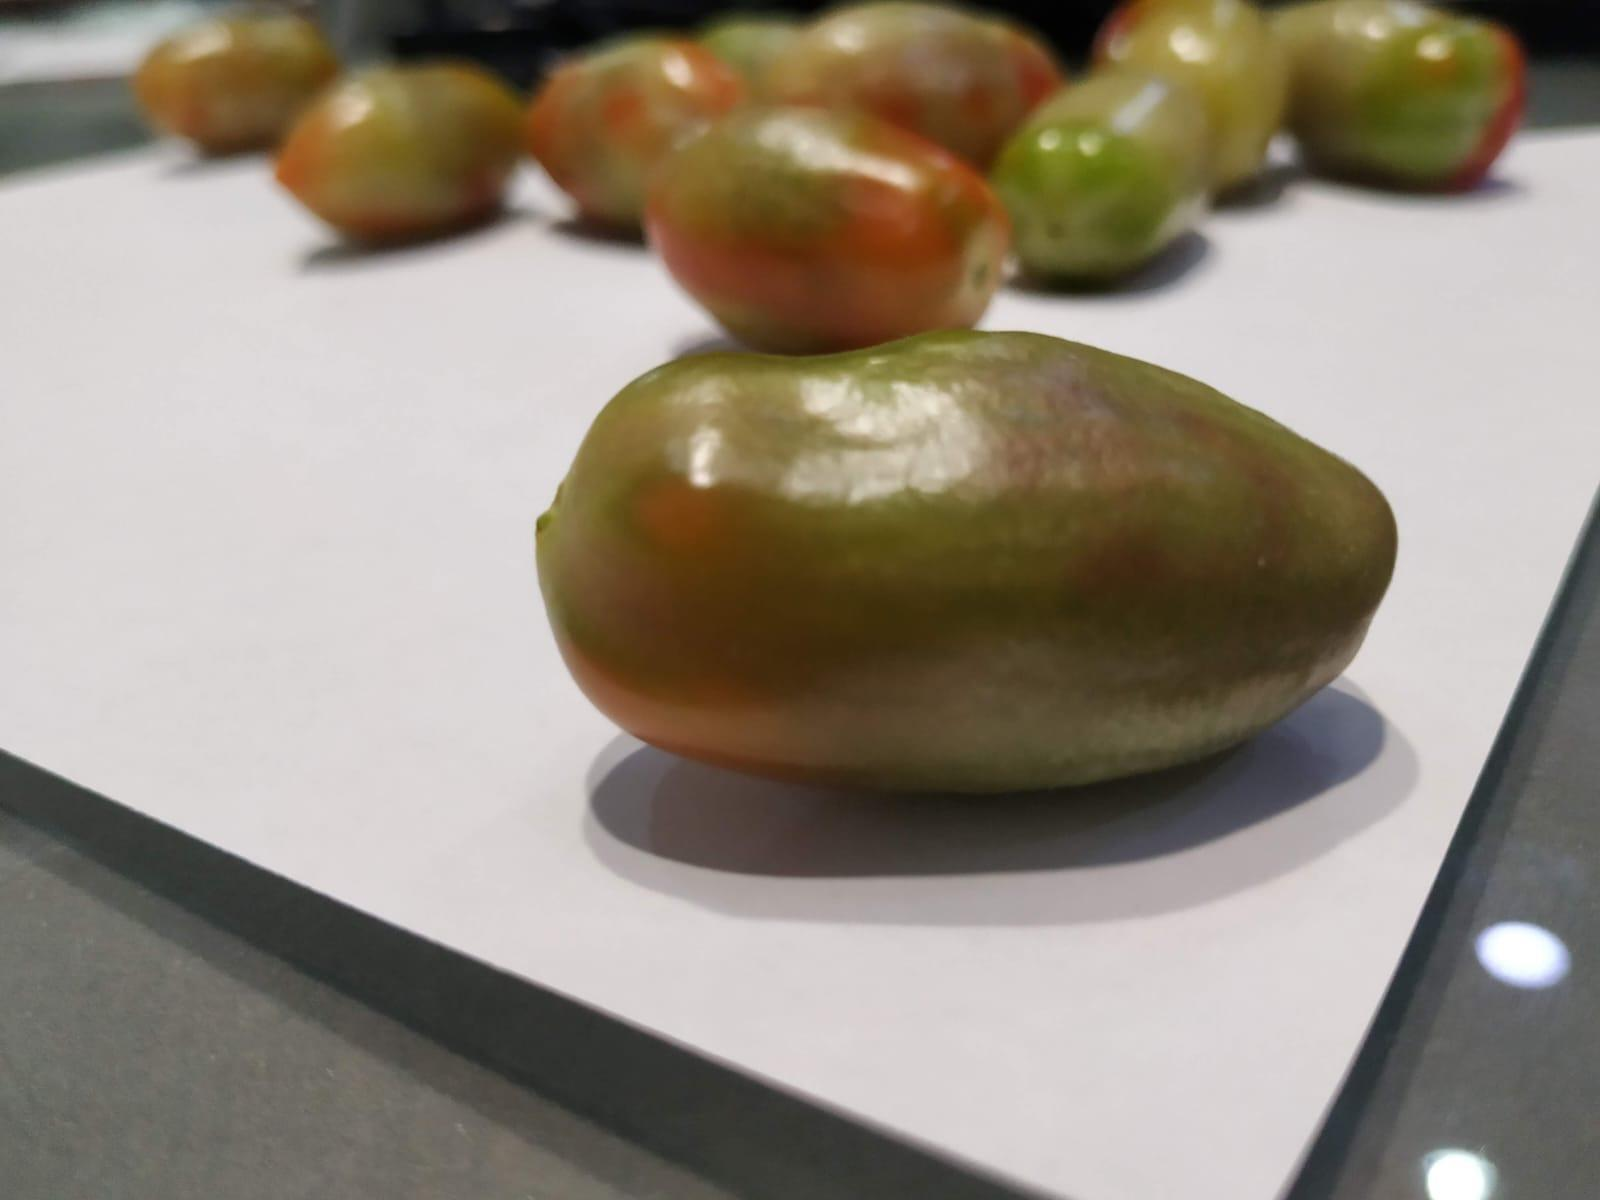Tomate Rugoso: (535, 330, 1397, 790)
